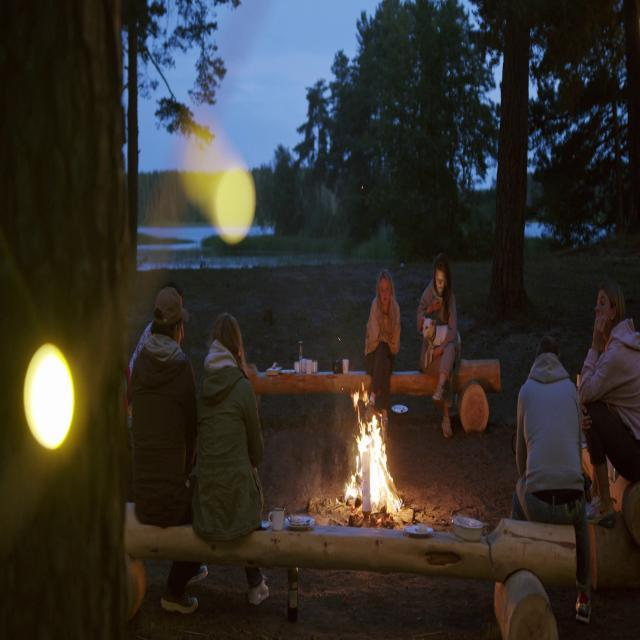Fire: (340, 393, 402, 520)
